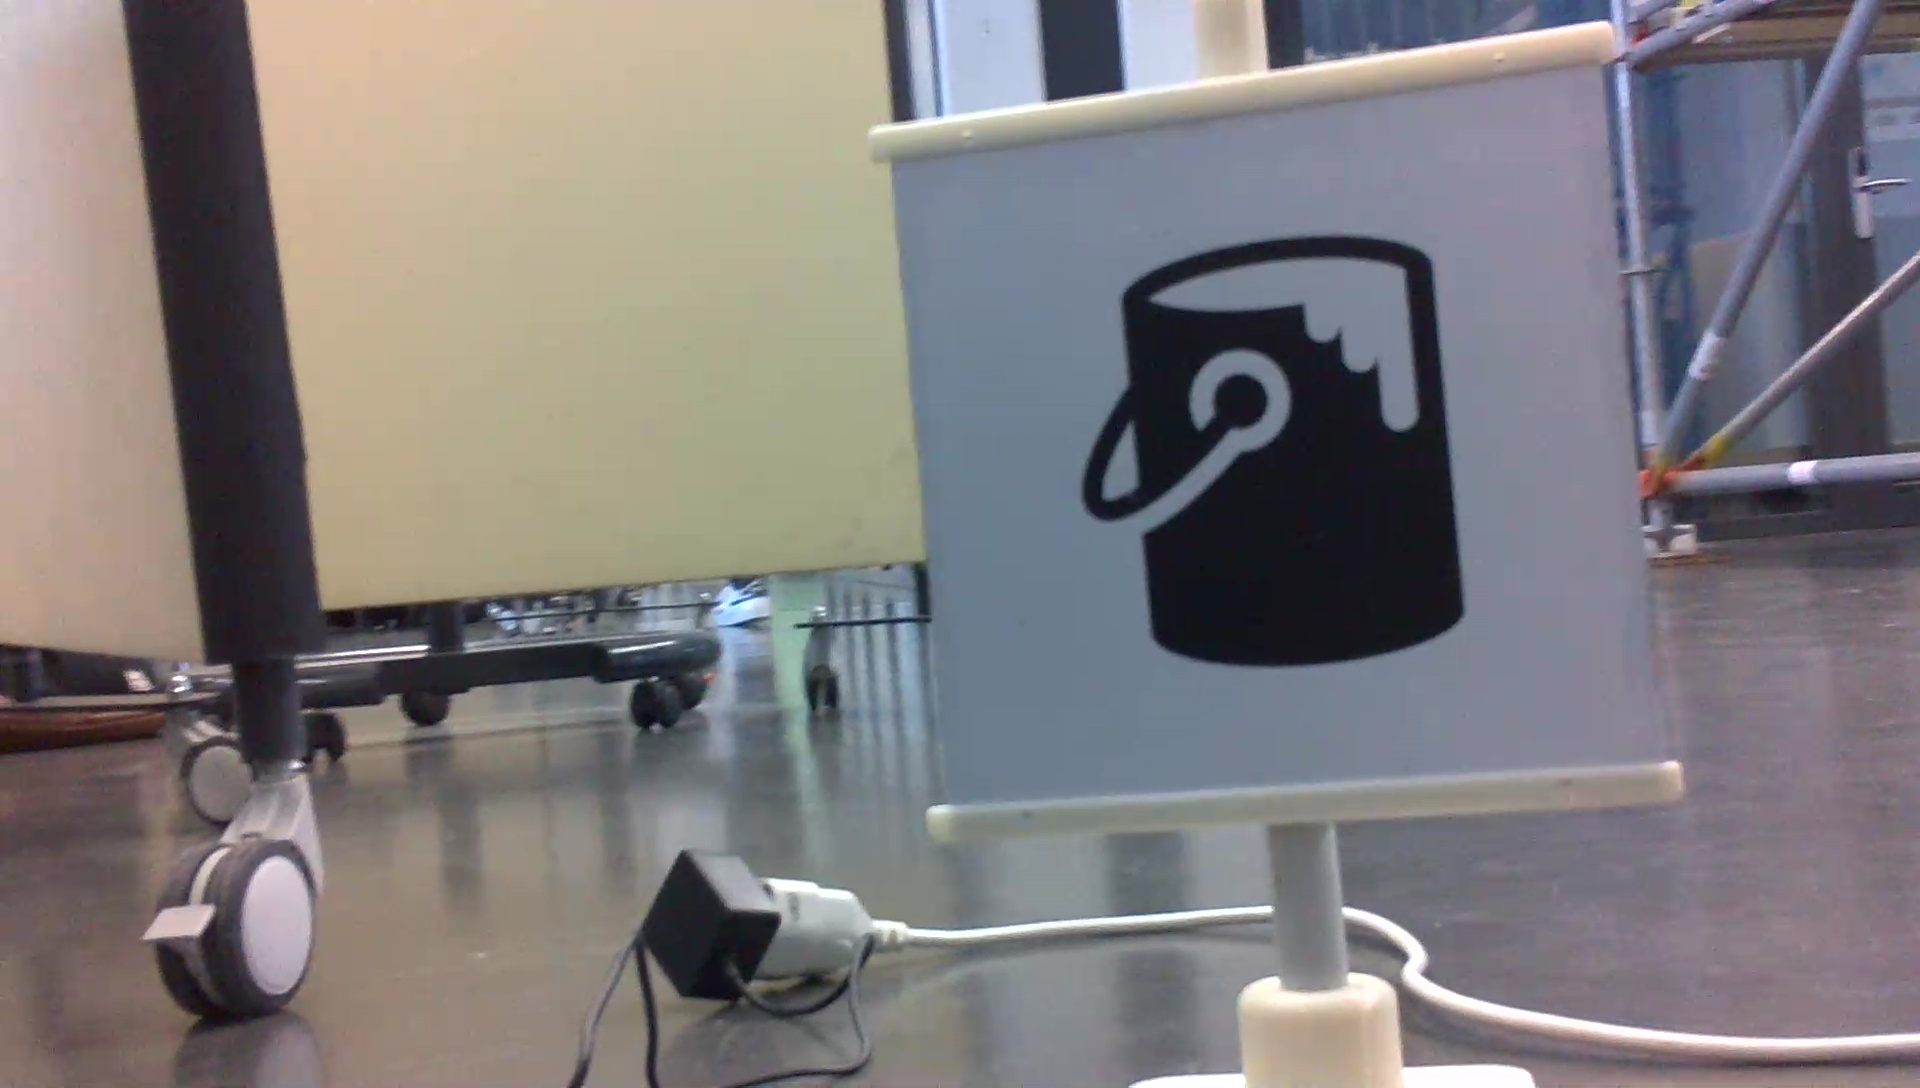bucket: (1068, 226, 1476, 684)
